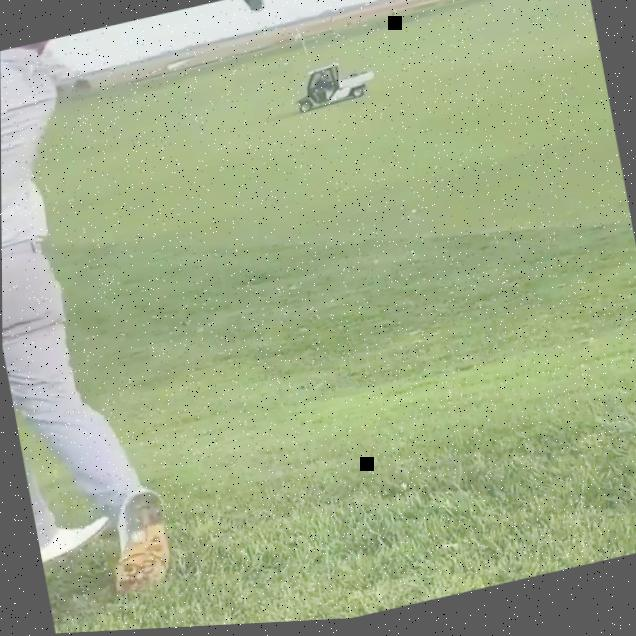ClubHead: (241, 0, 266, 17)
